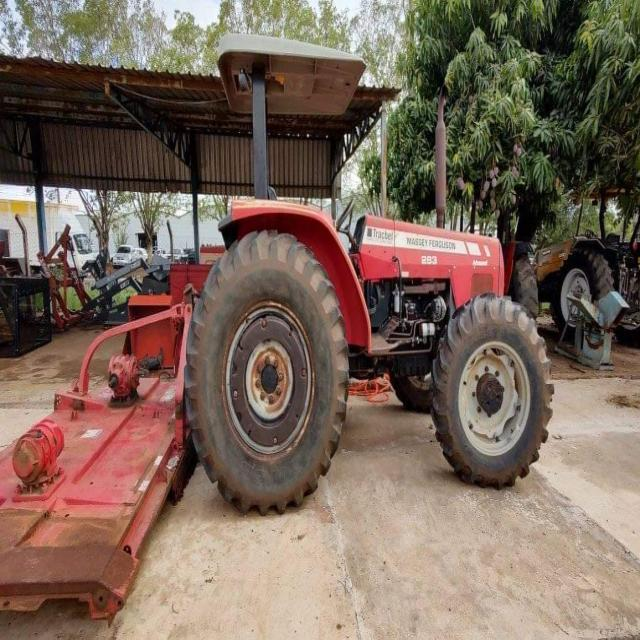Tratores - v5 YOLO V8L 2024-11-13: (198, 29, 552, 507)
